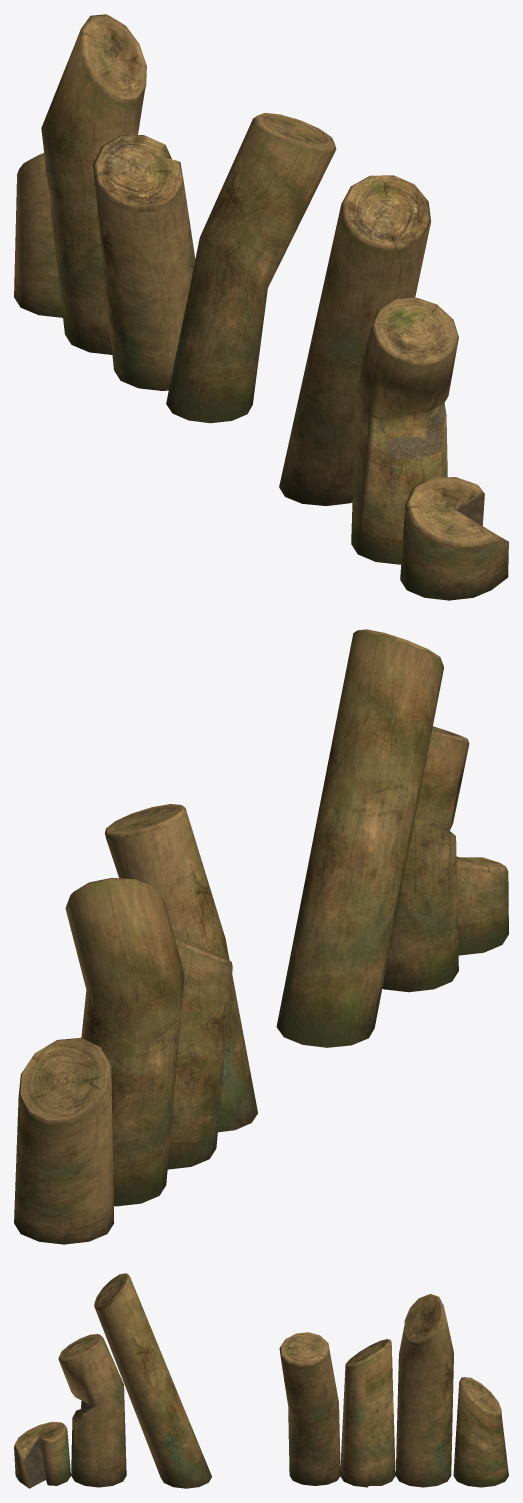
File: FenceLow_Wood_Broken01.fbx
3 views of the same model, one above another, from view 1: azimuth 30°, elevation 25°; view 2: azimuth 150°, elevation 25°; view 3: azimuth 270°, elevation 25° (orthographic). The views are drawn at different scales.
Visible parts, largest first — view 1: Cylinder; view 2: Cylinder; view 3: Cylinder.
Part boxes in pixels (x1,y1,x2,y2): Cylinder: (14, 14, 508, 600); Cylinder: (14, 629, 508, 1244); Cylinder: (14, 1273, 508, 1488).
Bounding box in the file's own units: 46.08 × 88.75 × 201.
